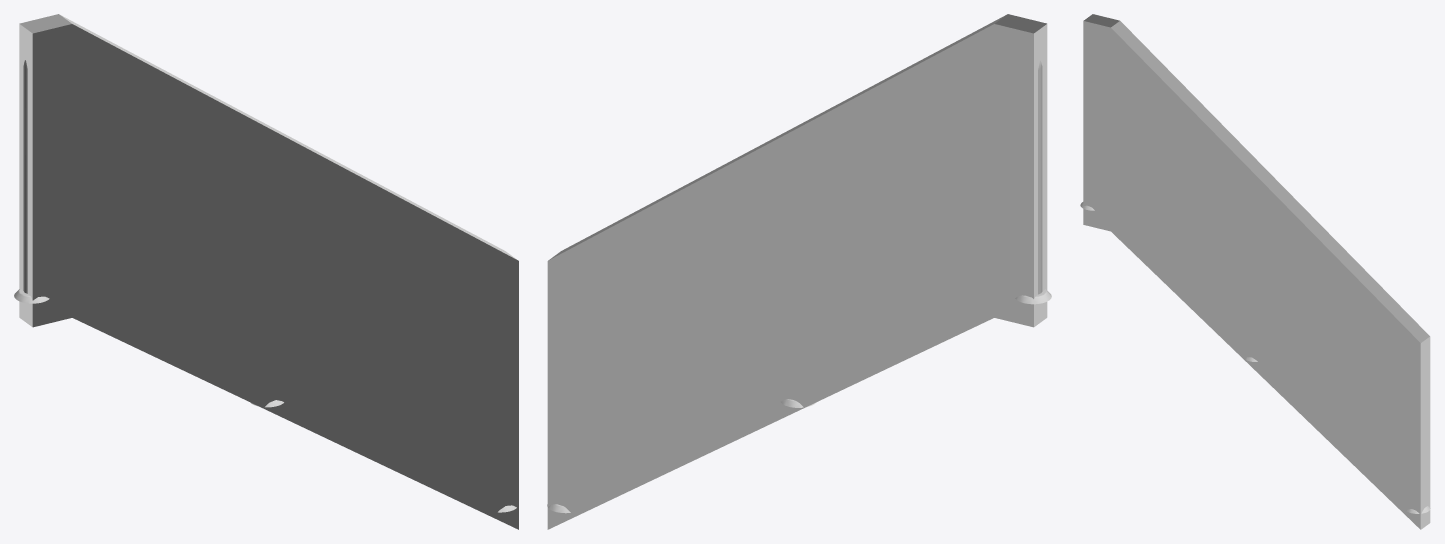
The model's file is SM_Stairs_Railing_01a.fbx.
3 views of the same model, side by side, from view 1: azimuth 30°, elevation 25°; view 2: azimuth 150°, elevation 25°; view 3: azimuth 330°, elevation 25° (orthographic). The views are drawn at different scales.
Visible parts, largest first — view 1: SM_Stairs_Railing_01a_ConvexHulls, SM_Stairs_Railing_01a; view 2: SM_Stairs_Railing_01a_ConvexHulls, SM_Stairs_Railing_01a; view 3: SM_Stairs_Railing_01a_ConvexHulls.
Part boxes in pixels (x1,y1,x2,y2): SM_Stairs_Railing_01a_ConvexHulls: [19, 14, 518, 529]; SM_Stairs_Railing_01a: [14, 60, 516, 512]; SM_Stairs_Railing_01a_ConvexHulls: [547, 14, 1047, 529]; SM_Stairs_Railing_01a: [547, 60, 1051, 513]; SM_Stairs_Railing_01a_ConvexHulls: [1083, 14, 1430, 529].
Bounding box in the file's own units: 192 × 12.36 × 226.
2 materials, 1 textured.
